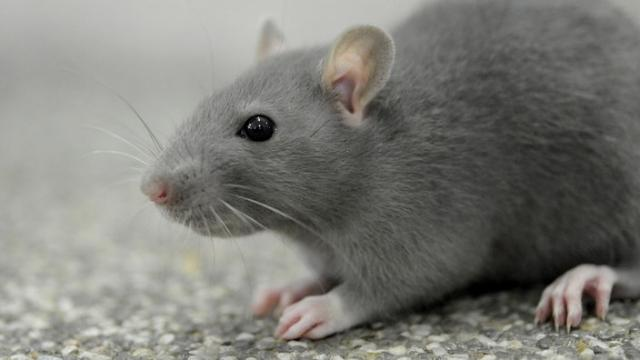rat: (119, 3, 614, 345)
